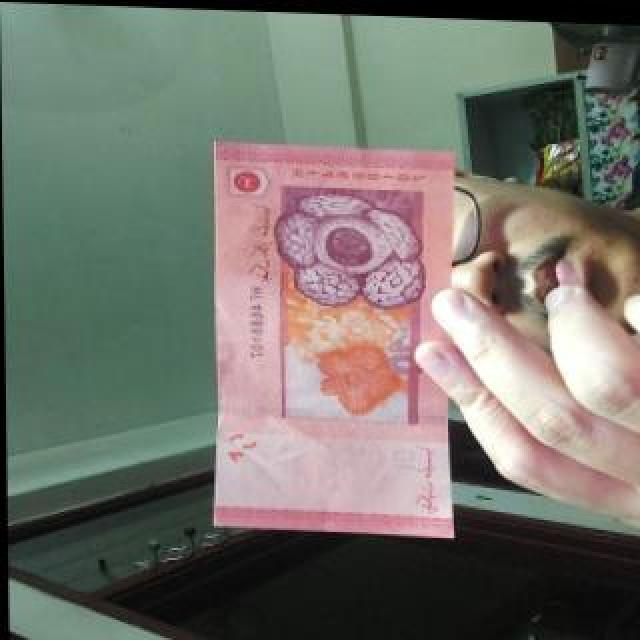10 Ringgit: (216, 142, 461, 537)
